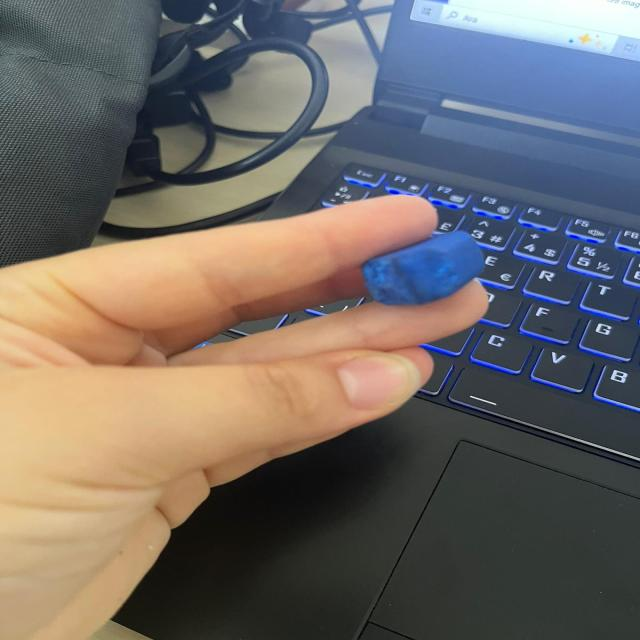eraser: (357, 225, 496, 313)
